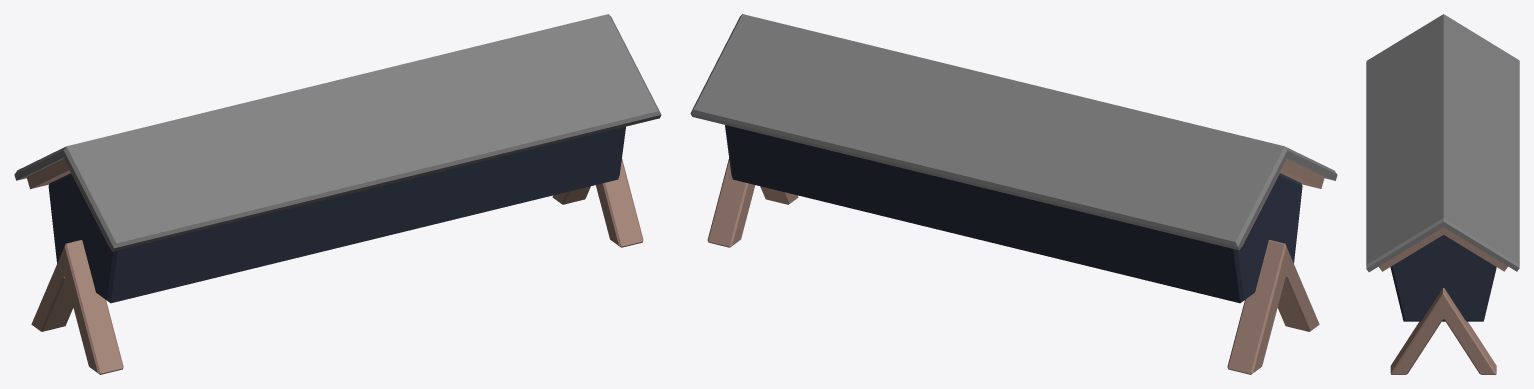
The model's file is littlefoodholder_a002.glb.
3 renders of one model, left to right at view 1: azimuth 30°, elevation 25°; view 2: azimuth 150°, elevation 25°; view 3: azimuth 270°, elevation 25°, orthographic. The views are drawn at different scales.
Parts seen in each view (by area): view 1: littlefoodholder_a002; view 2: littlefoodholder_a002; view 3: littlefoodholder_a002.
Part boxes in pixels (box(x1,y1,x2,y2)): littlefoodholder_a002: box(14, 14, 661, 374); littlefoodholder_a002: box(690, 14, 1337, 374); littlefoodholder_a002: box(1366, 14, 1519, 374).
Bounding box in the file's own units: 1.97 × 0.6996 × 0.6201.
1 material, 1 textured.
